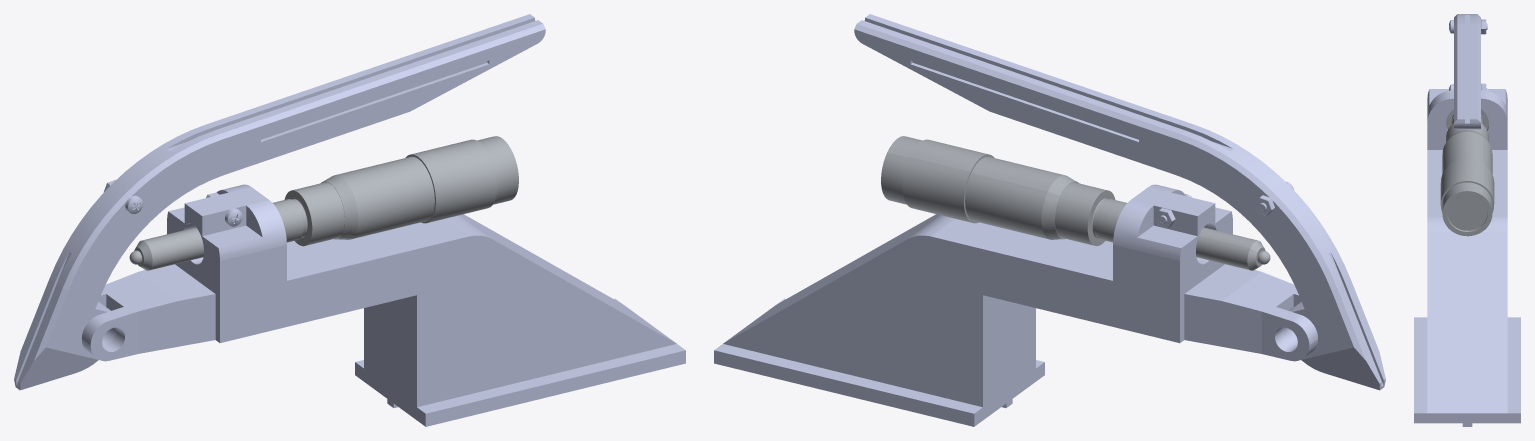
The model's file is fibre-arm-try3.glb.
3 renders of one model, left to right at view 1: azimuth 30°, elevation 25°; view 2: azimuth 150°, elevation 25°; view 3: azimuth 270°, elevation 25°, orthographic. The views are drawn at different scales.
Parts seen in each view (by area): view 1: Alley Jig Design Split Base, Fibre Arm, Alley Jig Design Split Top, object 8, Alley Jig Design Split Micrometer Hole, object 7; view 2: Alley Jig Design Split Base, Fibre Arm, Alley Jig Design Split Top, object 8, Alley Jig Design Split Micrometer Hole, object 7; view 3: Alley Jig Design Split Base, Alley Jig Design Split Top, object 8, Fibre Arm, Alley Jig Design Split Micrometer Hole, object 7, object 6.
Part boxes in pixels (<box>): Alley Jig Design Split Base: <box>355,227,685,426</box>; Fibre Arm: <box>14,14,545,390</box>; Alley Jig Design Split Top: <box>82,214,538,361</box>; object 8: <box>129,136,518,270</box>; Alley Jig Design Split Micrometer Hole: <box>167,184,286,296</box>; object 7: <box>273,182,344,246</box>; Alley Jig Design Split Base: <box>714,227,1044,426</box>; Fibre Arm: <box>854,14,1385,390</box>; Alley Jig Design Split Top: <box>861,214,1317,361</box>; object 8: <box>881,136,1270,270</box>; Alley Jig Design Split Micrometer Hole: <box>1113,184,1232,296</box>; object 7: <box>1055,182,1126,246</box>; Alley Jig Design Split Base: <box>1414,277,1520,426</box>; Alley Jig Design Split Top: <box>1427,150,1507,277</box>; object 8: <box>1440,130,1494,236</box>; Fibre Arm: <box>1454,14,1480,129</box>; Alley Jig Design Split Micrometer Hole: <box>1427,89,1507,149</box>; object 7: <box>1446,114,1488,142</box>; object 6: <box>1446,109,1488,129</box>.
Bounding box in the file's own units: 0.1656 × 0.0878 × 0.032.
